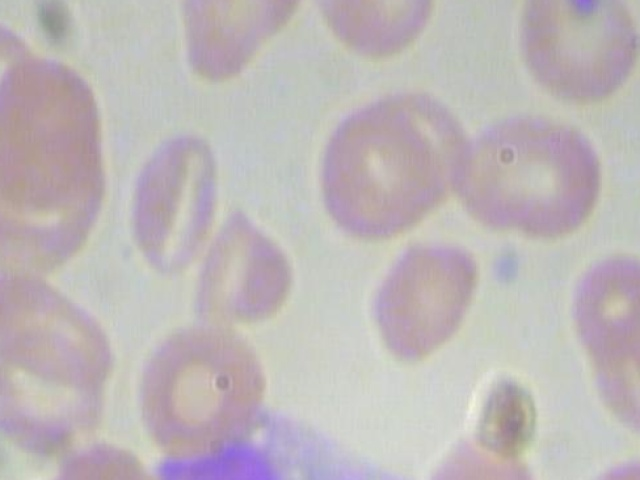RBC: (437, 95, 629, 255), (131, 325, 284, 473), (309, 92, 453, 239), (351, 230, 492, 366), (114, 126, 227, 275), (503, 0, 640, 115), (161, 0, 305, 88), (304, 0, 445, 69), (565, 244, 640, 357), (422, 440, 551, 480), (568, 451, 640, 480)
WBC: (136, 391, 433, 480)
